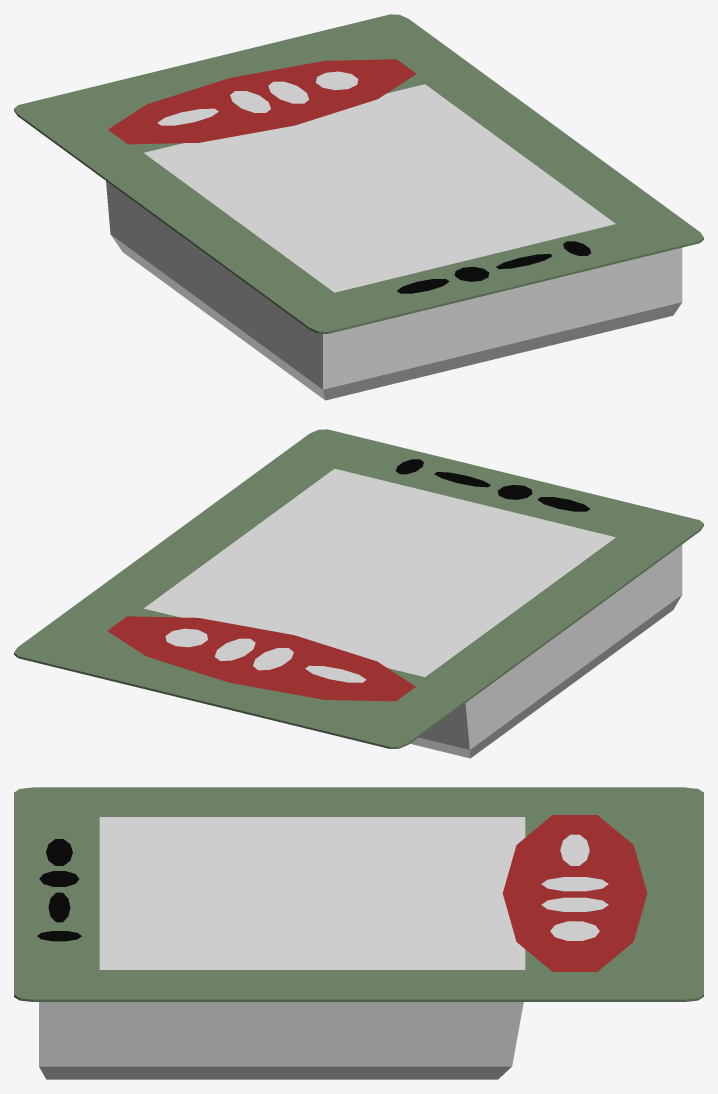
Rendered from Ma_Ham_2.fbx.
3 renders of one model, top to bottom at view 1: azimuth 30°, elevation 25°; view 2: azimuth 150°, elevation 25°; view 3: azimuth 270°, elevation 25°, orthographic. The views are drawn at different scales.
Visible parts, largest first — view 1: Ma_Ham_2; view 2: Ma_Ham_2; view 3: Ma_Ham_2.
Boxes of the visible parts, x1=… form: Ma_Ham_2: x1=14, y1=14, x2=703, y2=400; Ma_Ham_2: x1=14, y1=429, x2=703, y2=758; Ma_Ham_2: x1=14, y1=787, x2=703, y2=1079.
Size of the model in its own units: 87.42 by 120 by 19.48.
